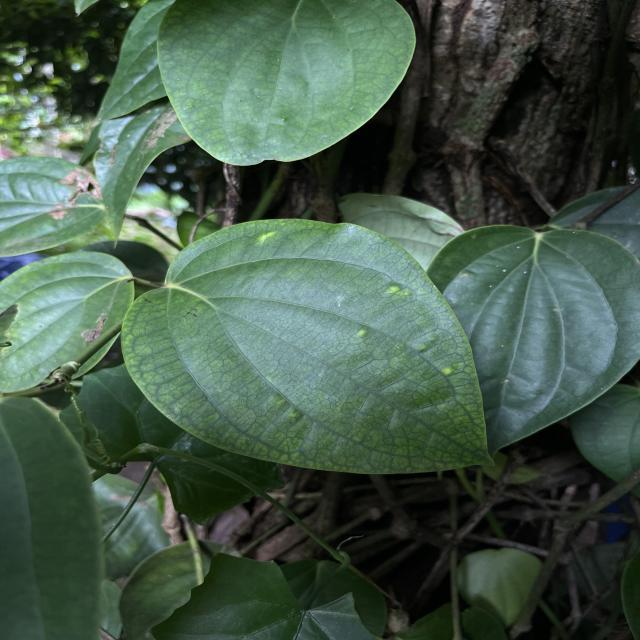Piper nigrum: (118, 215, 500, 477)
